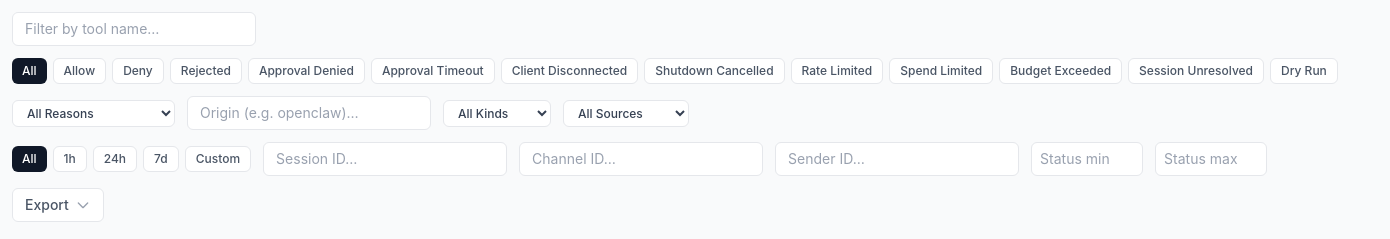
Scenario: AuditFilterBar › shows custom date inputs when Custom is clicked
The width and height of the screenshot is (1390, 239).
Expected: the text "entered in your local time; rows show UTC" is not shown
Click the button "Custom": click(218, 159) [185,146,251,172]
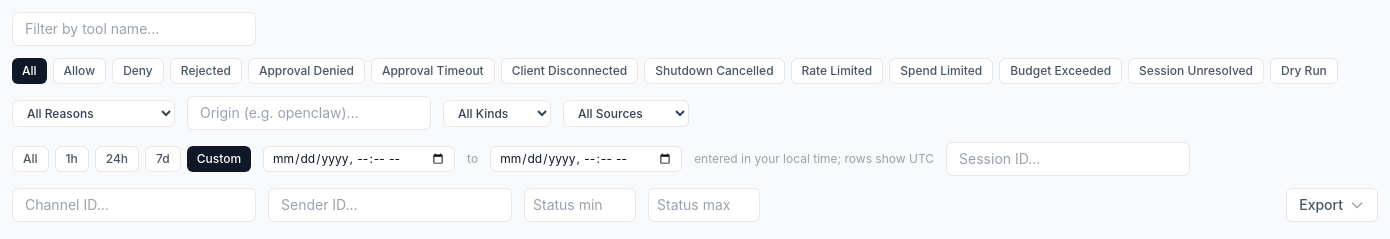
Expected: the text "entered in your local time; rows show UTC" is shown, [694,151,934,167]
